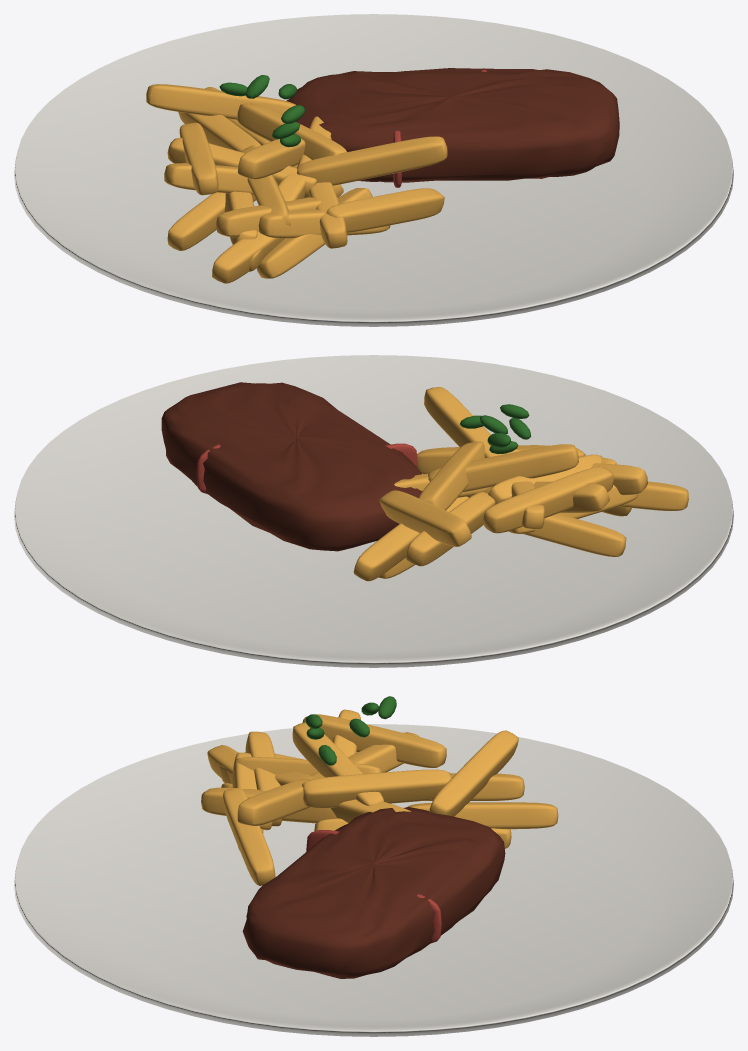
The model's file is executivo-contrafile-fritas.glb.
The picture shows the model from 3 angles, top to bottom: view 1: azimuth 30°, elevation 25°; view 2: azimuth 150°, elevation 25°; view 3: azimuth 270°, elevation 25°; orthographic projection.
Parts seen in each view (by area): view 1: executivo-contrafile-fritas; view 2: executivo-contrafile-fritas; view 3: executivo-contrafile-fritas.
Boxes of the visible parts, x1,y1,x2,y2 form: executivo-contrafile-fritas: (14,14,733,326); executivo-contrafile-fritas: (14,355,733,667); executivo-contrafile-fritas: (14,696,733,1036).
Bounding box in the file's own units: 0.28 × 0.0762 × 0.28.
